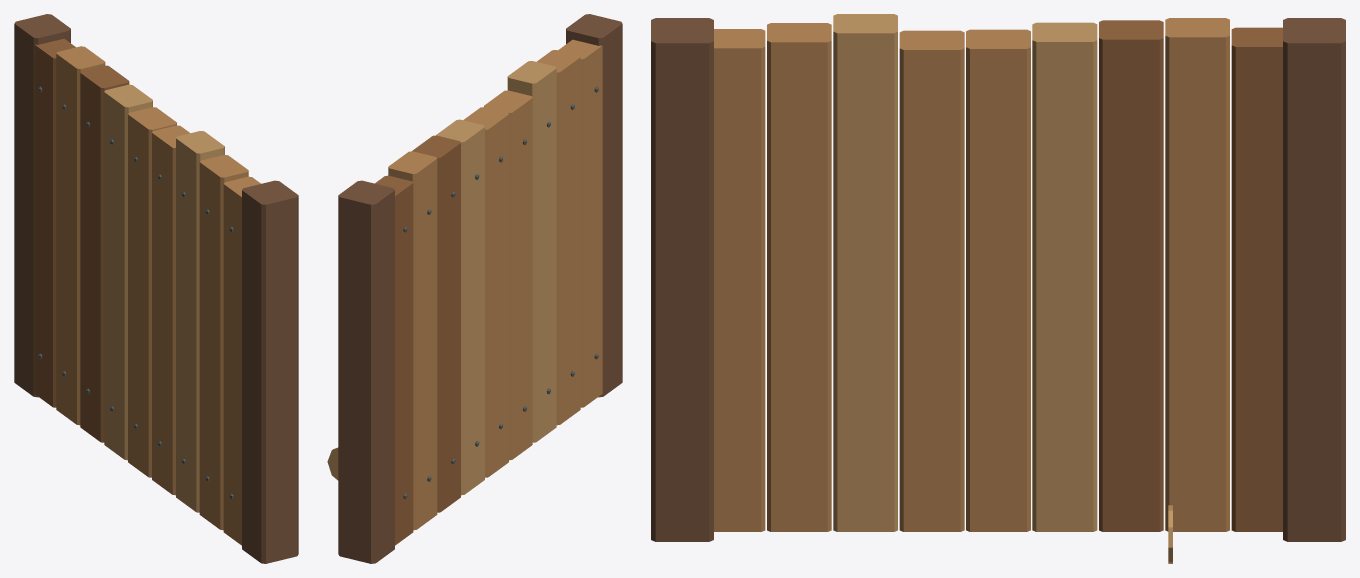
The model's file is wood_left.glb.
3 views of the same model, side by side, from view 1: azimuth 30°, elevation 25°; view 2: azimuth 150°, elevation 25°; view 3: azimuth 270°, elevation 25° (orthographic). The views are drawn at different scales.
Visible parts, largest first — view 1: wood_left; view 2: wood_left; view 3: wood_left.
Part boxes in pixels (<box>): wood_left: <box>14,14,298,563</box>; wood_left: <box>327,14,622,563</box>; wood_left: <box>651,14,1345,563</box>.
Size of the model in its own units: 0.1146 by 0.353 by 0.442.
